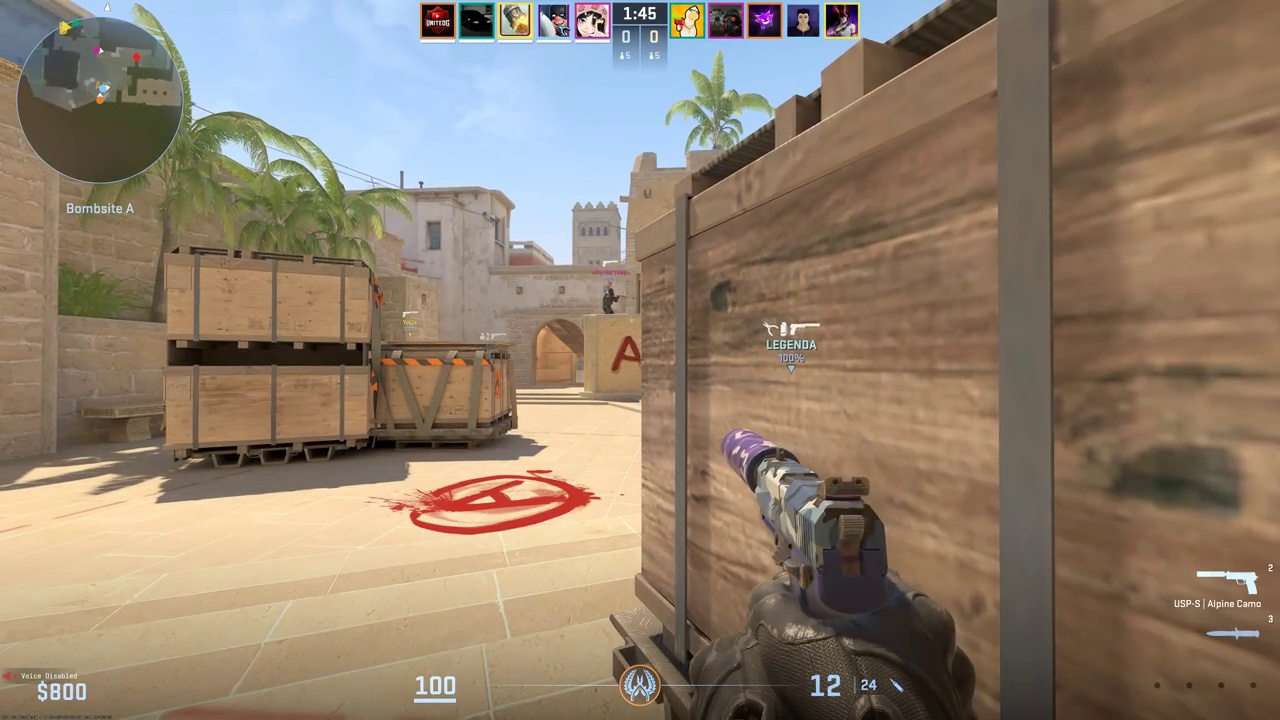CT: (601, 285, 617, 314)
